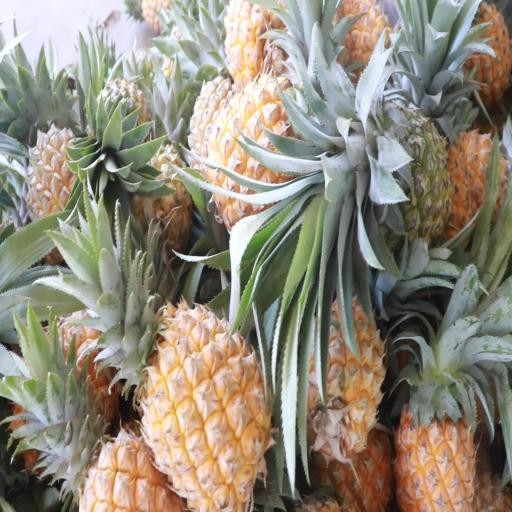Pineapple - v8 v1: (130, 297, 282, 512), (212, 68, 354, 226), (389, 295, 479, 512), (307, 292, 385, 461)
